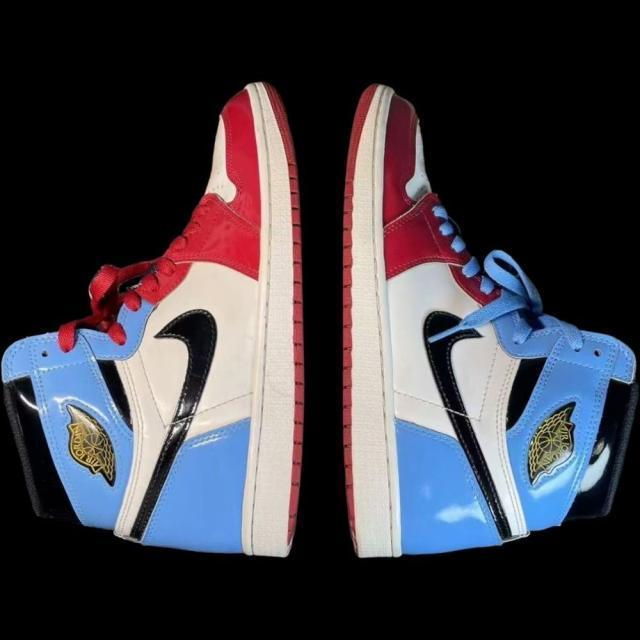nike original jordan 1: (0, 78, 306, 557), (337, 81, 640, 561)
